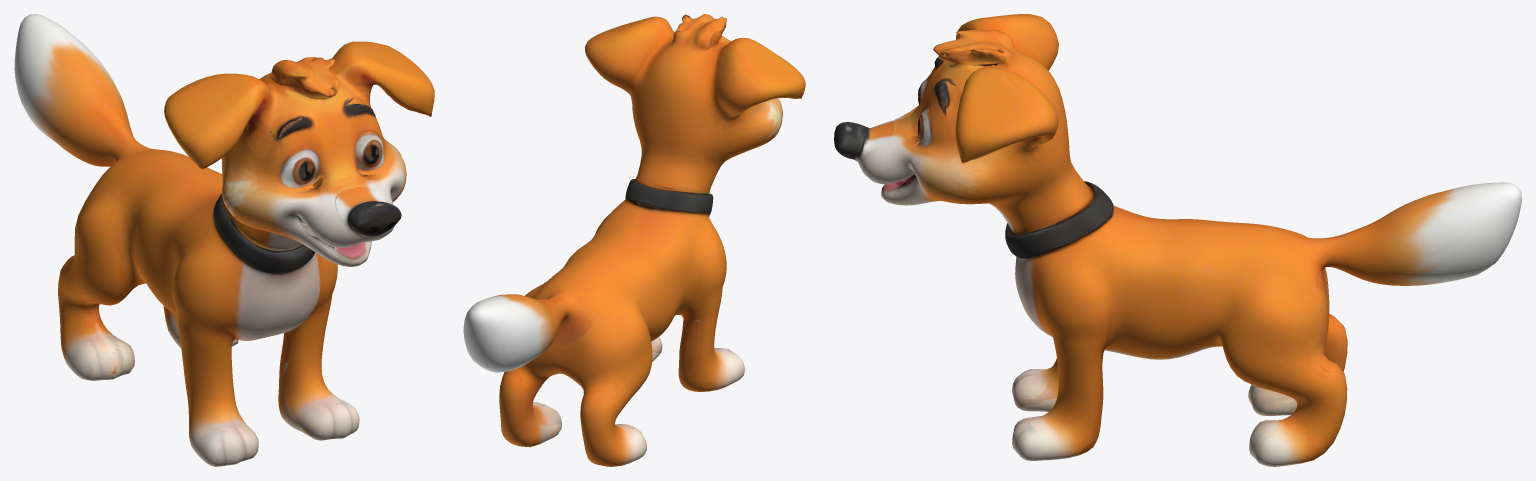
The model's file is dog.glb.
3 renders of one model, left to right at view 1: azimuth 30°, elevation 25°; view 2: azimuth 150°, elevation 25°; view 3: azimuth 270°, elevation 25°, orthographic. The views are drawn at different scales.
Bounding box in the file's own units: 0.8007 × 1.27 × 1.99.
Materials: 1 (1 with a texture image).
